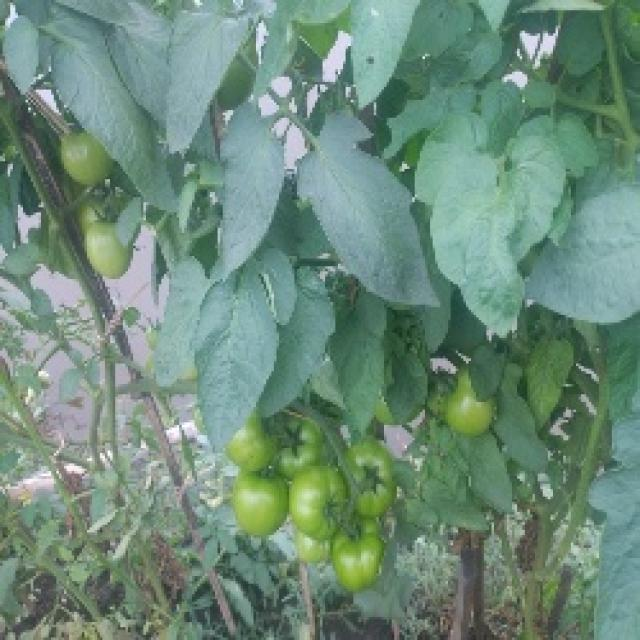tomato: (324, 507, 391, 593), (438, 362, 495, 445), (237, 471, 292, 551), (290, 464, 345, 537), (348, 437, 399, 515), (62, 116, 113, 189), (226, 420, 278, 482), (276, 416, 335, 468), (80, 224, 131, 282), (295, 531, 323, 566)
